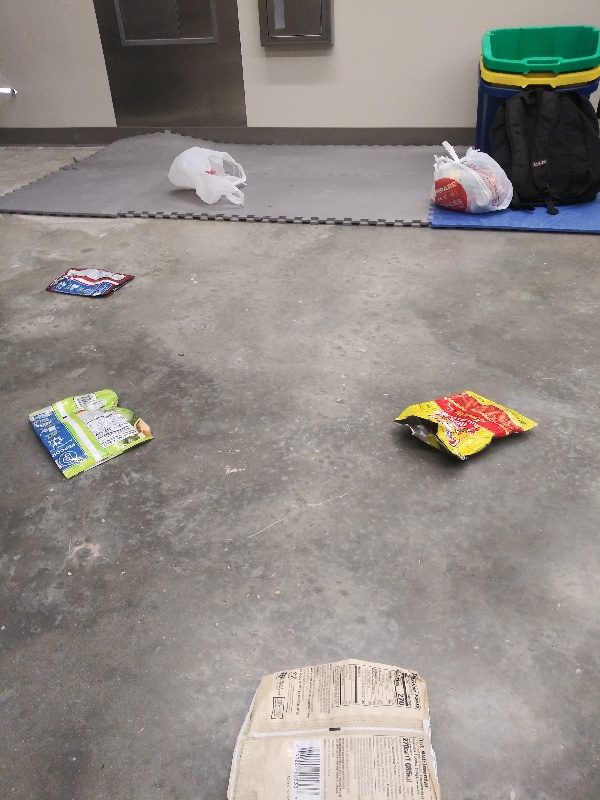bag: (221, 654, 443, 799), (26, 387, 157, 487), (392, 386, 542, 462), (43, 261, 136, 301)
